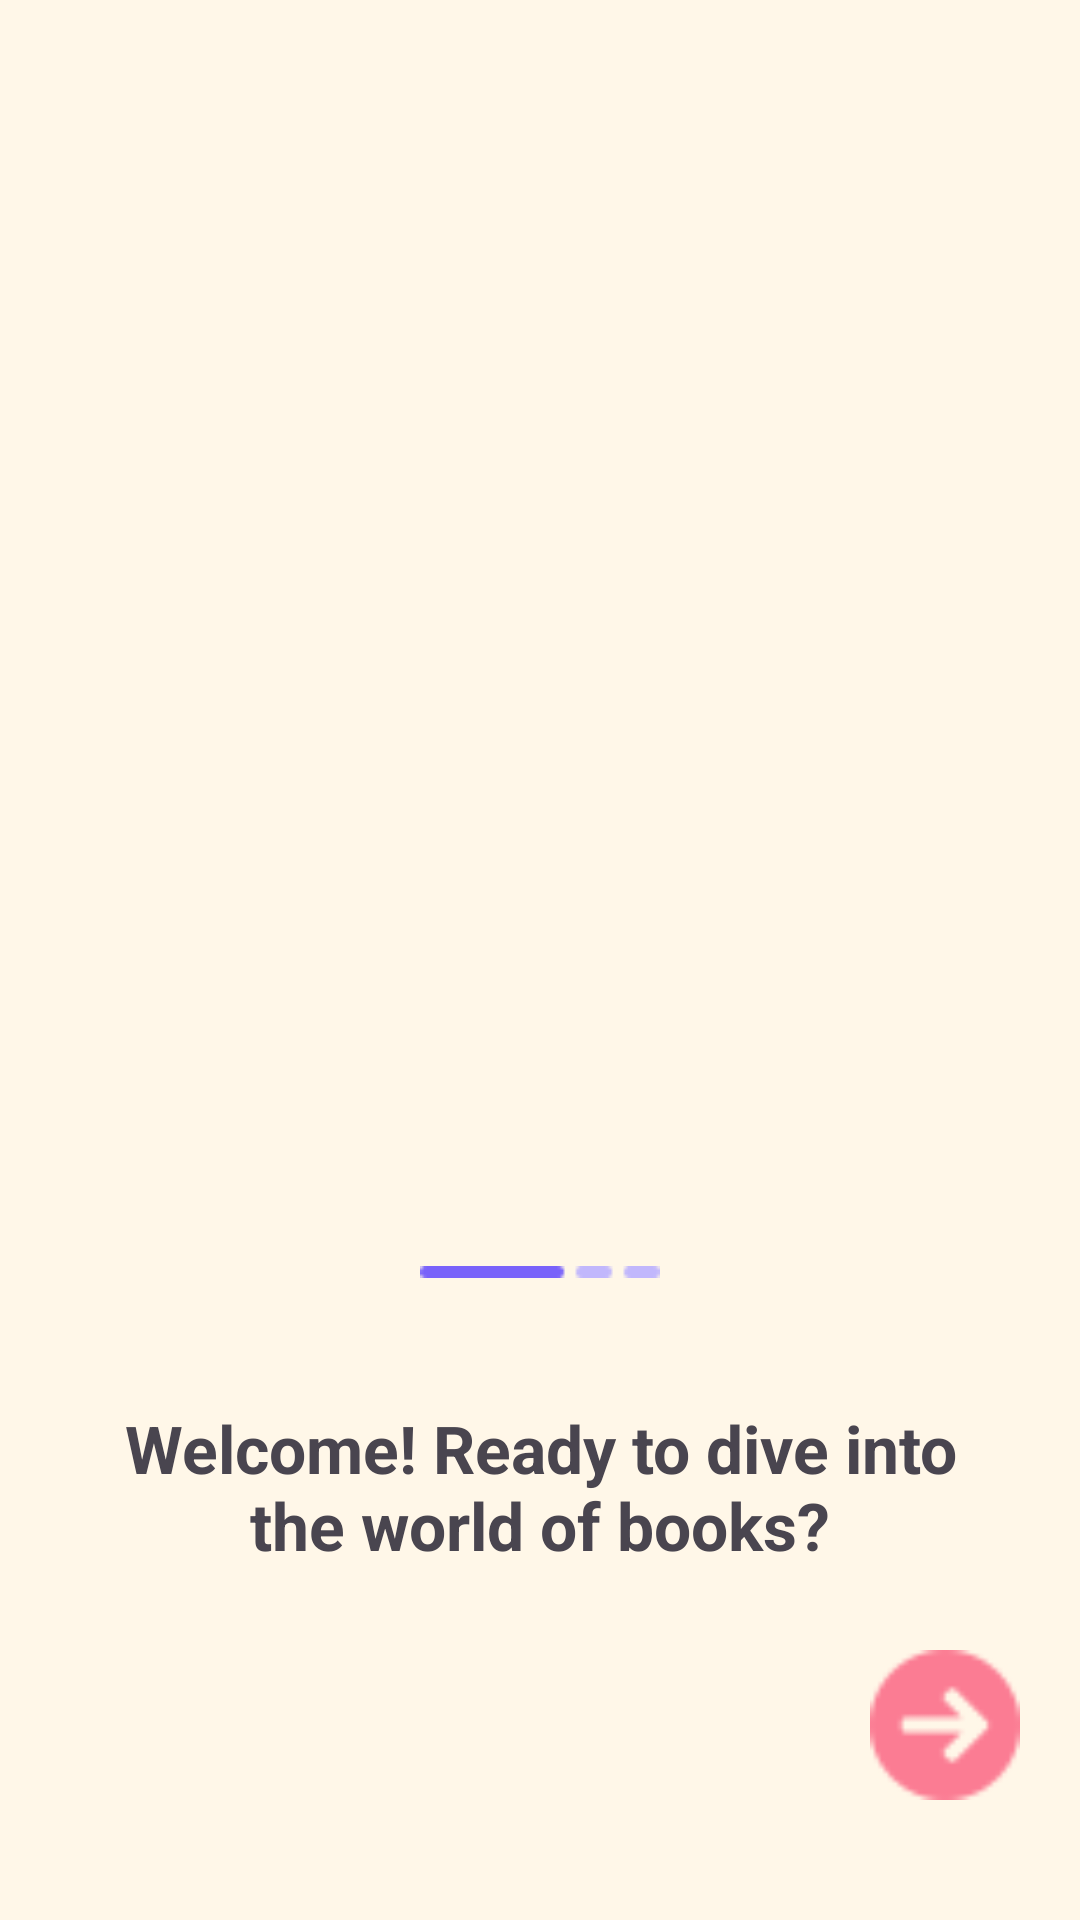

Point at icon controls on the screen. Image size 1080px×1920px, points as (x,y).
arrow: (945,1725)
